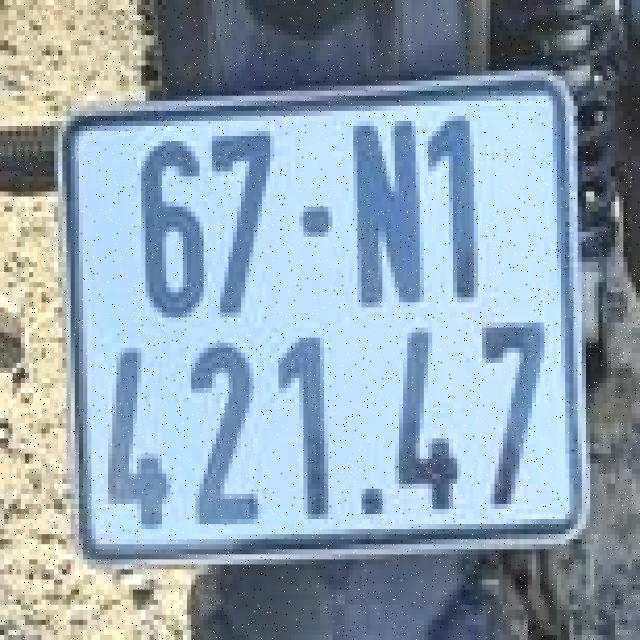1: (426, 98, 501, 305), (268, 325, 335, 527)
2: (175, 330, 266, 537)
4: (98, 340, 176, 537), (391, 315, 461, 516)
6: (129, 131, 212, 323)
7: (476, 312, 550, 519), (212, 121, 278, 317)
N: (339, 108, 430, 310)
